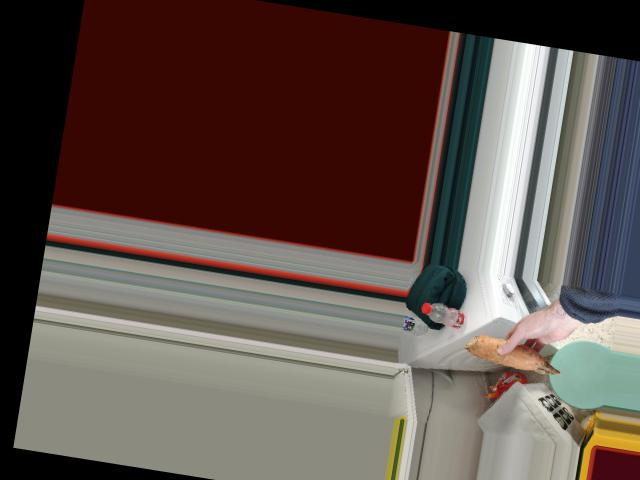sweet_potato: (469, 334, 566, 376)
